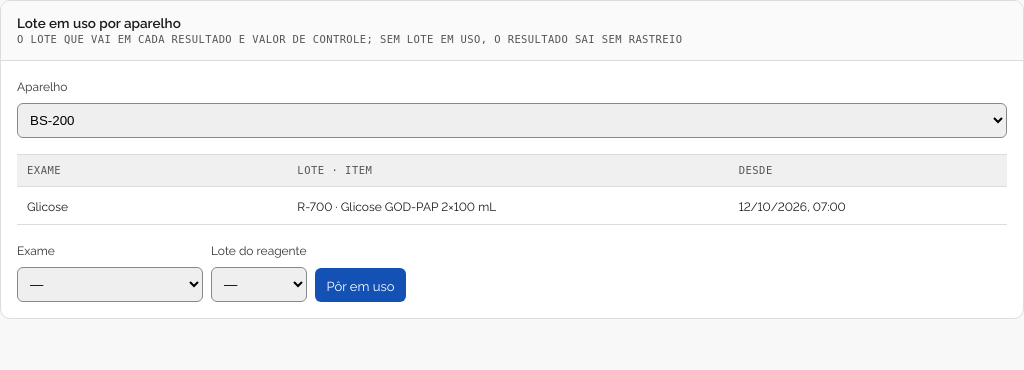
Test: InUsePanel › um aparelho ativo só: lista o lote em uso; troca só com reagente do exame, não vencido, sem step-up
This screenshot has width=1024, height=370.
Expected: the text "R-700 · Glicose GOD-PAP 2×100 mL" is shown, [297,197,496,214]
Select "Glicose" in the dropdown labelled "Exame" at (110, 284), box [17,267,203,302]
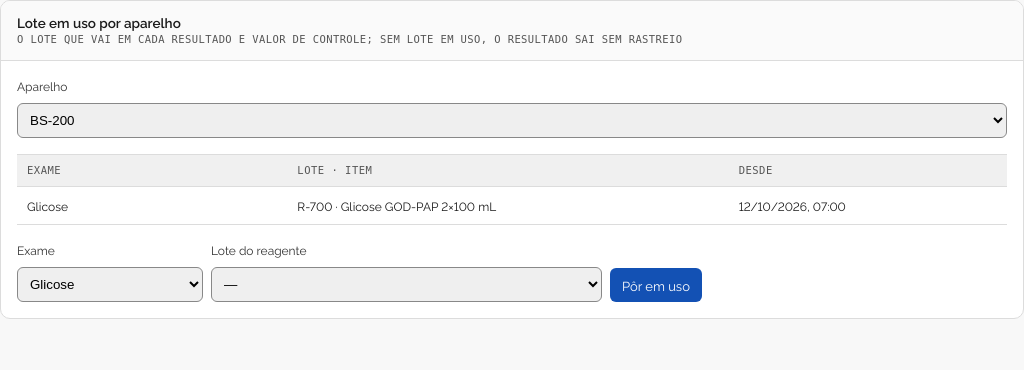
Select "R-778 · Glicose GOD-PAP 2×100 mL · validade 31/01/2027" in the dropdown labelled "Lote do reagente" at (406, 284), box [211,267,602,302]
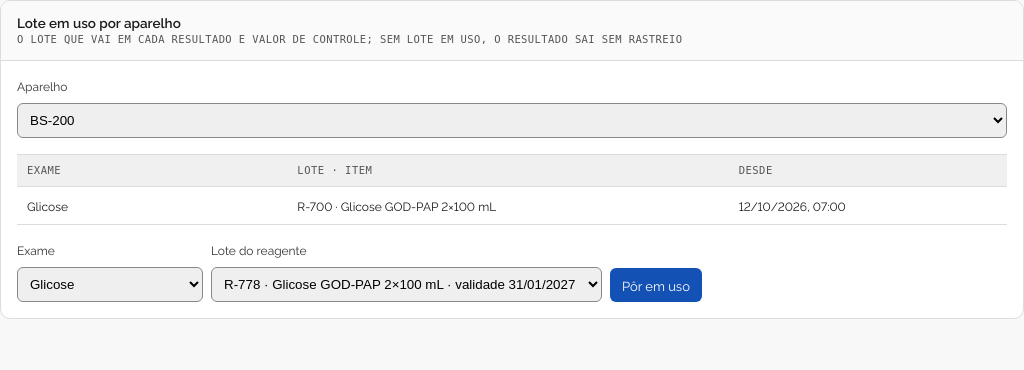
Click the button "Pôr em uso" at (656, 285), box [610,268,702,302]
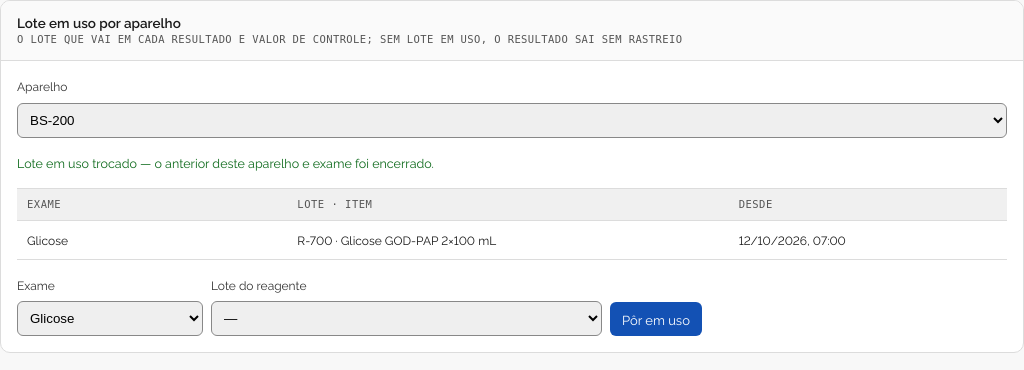
Now the text "Lote em uso trocado — o anterior deste aparelho e exame foi encerrado." is shown, box [17,154,434,171]
